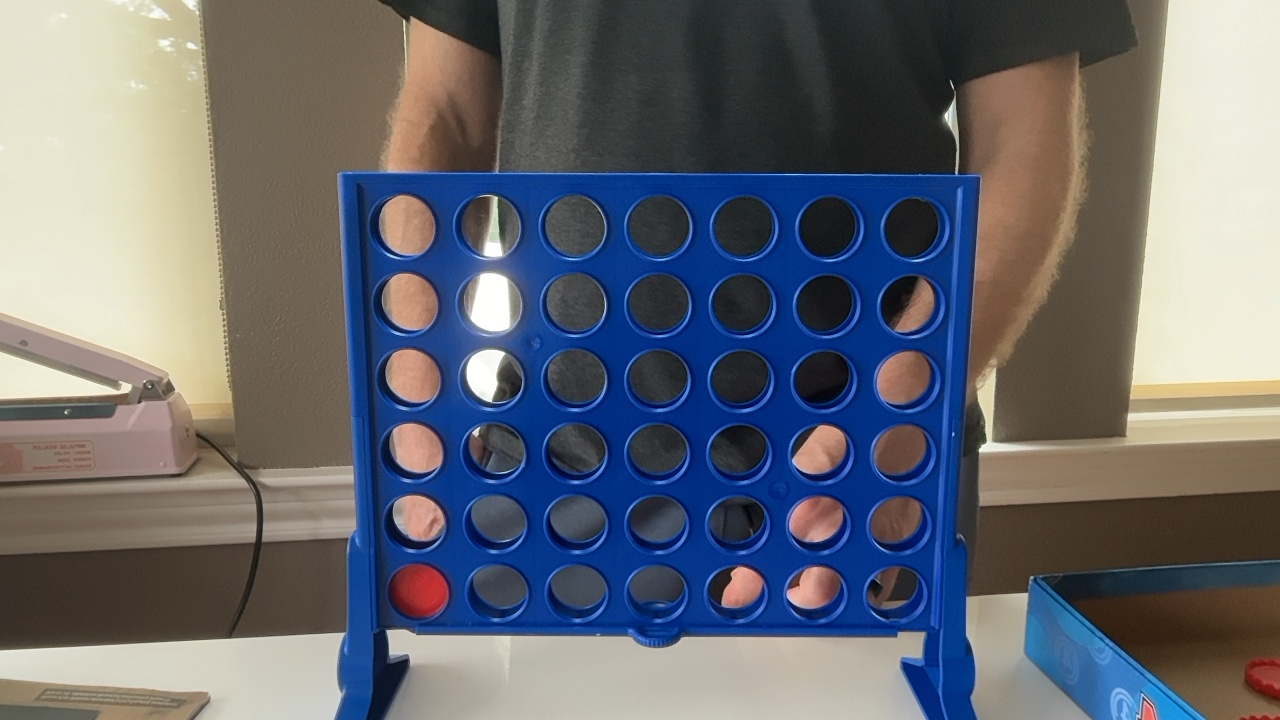red piece: (388, 564, 449, 619)
